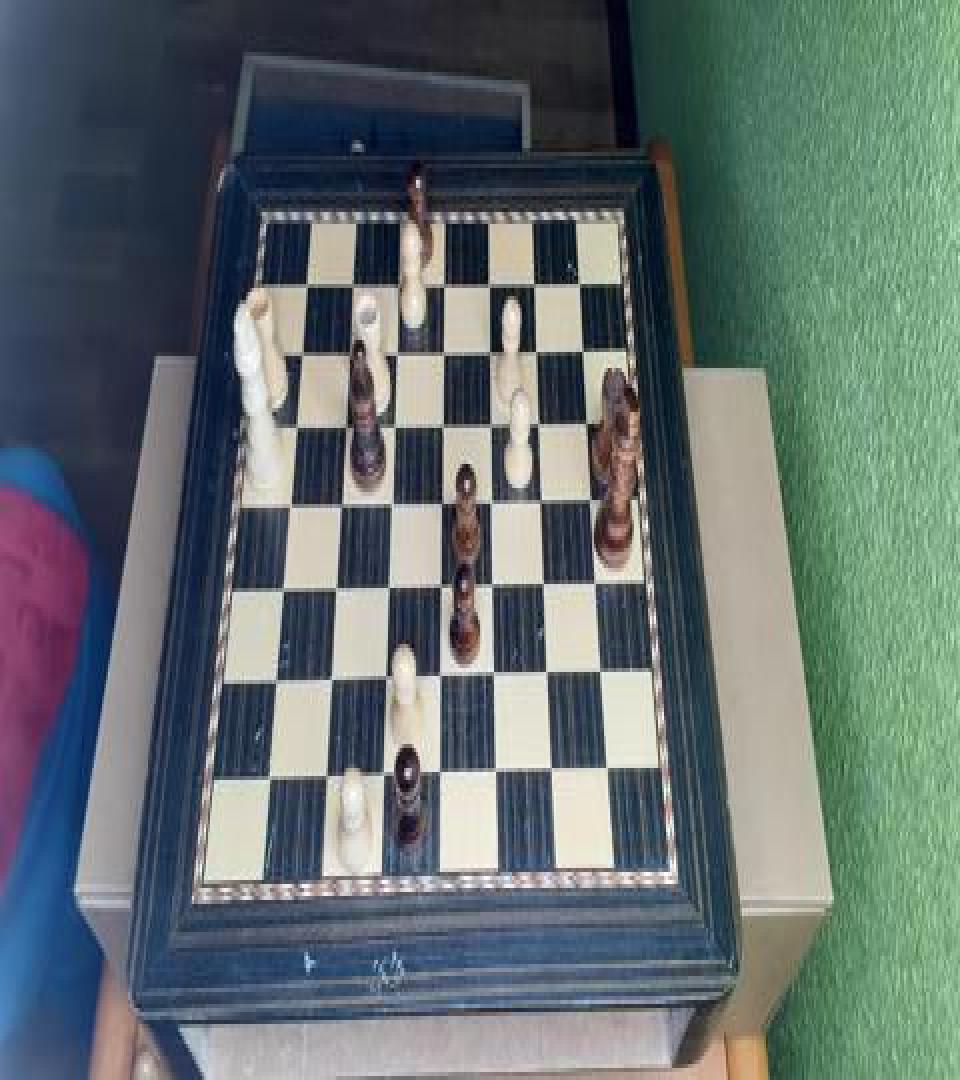xcorner: (572, 262, 586, 290), (526, 262, 540, 290), (481, 262, 495, 290), (435, 262, 449, 290), (389, 262, 403, 290), (343, 262, 357, 290), (297, 262, 311, 290), (576, 330, 590, 358), (529, 330, 543, 358), (482, 330, 496, 358), (435, 330, 449, 358), (387, 332, 401, 360), (339, 332, 353, 360), (291, 332, 305, 360), (581, 404, 595, 432), (532, 404, 546, 432), (483, 404, 497, 432), (434, 404, 448, 432), (385, 406, 399, 434), (335, 406, 349, 434), (286, 406, 300, 434), (586, 482, 600, 510), (535, 482, 549, 510), (485, 484, 499, 512), (434, 484, 448, 512), (383, 484, 397, 512), (331, 486, 345, 514), (280, 486, 294, 514), (591, 568, 605, 596), (539, 568, 553, 596), (486, 568, 500, 596), (433, 570, 447, 598), (380, 570, 394, 598), (327, 572, 341, 600), (273, 572, 287, 600), (597, 658, 611, 686), (542, 660, 556, 688), (488, 662, 502, 690), (433, 662, 447, 690), (377, 664, 391, 692), (322, 664, 336, 692), (266, 666, 280, 694), (603, 758, 617, 786), (546, 760, 560, 788), (489, 762, 503, 790), (432, 762, 446, 790), (374, 764, 388, 792), (317, 766, 331, 794), (258, 768, 272, 796)
